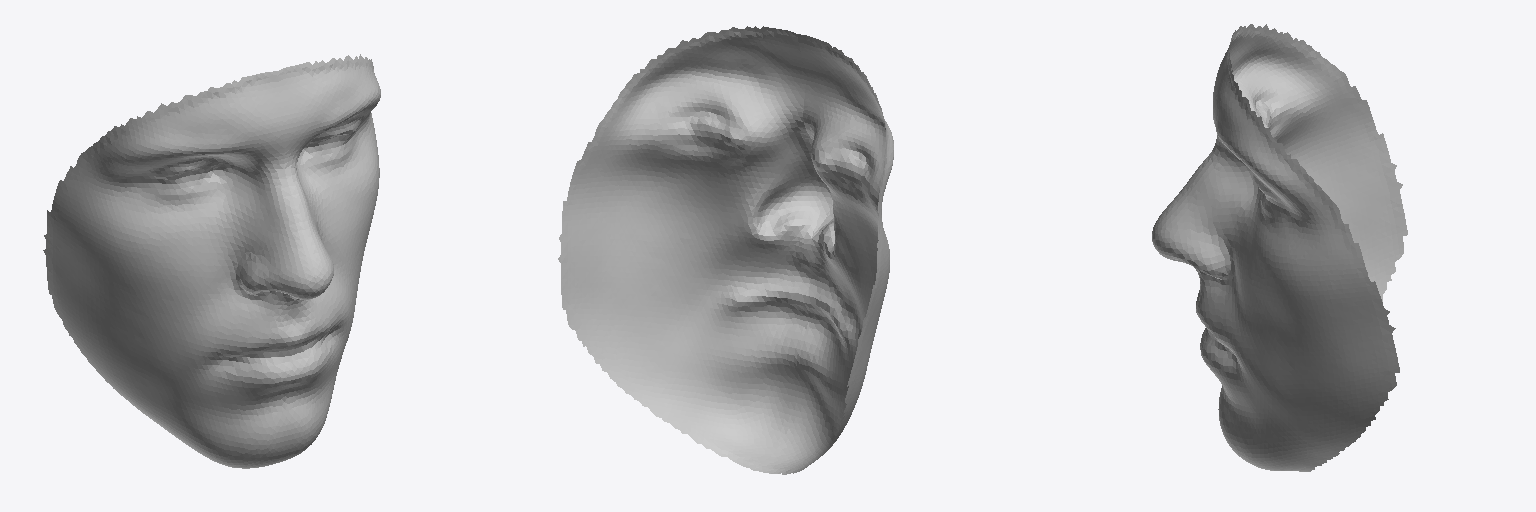
File: SIMPOP_34.obj
3 views of the same model, side by side, from view 1: azimuth 30°, elevation 25°; view 2: azimuth 150°, elevation 25°; view 3: azimuth 270°, elevation 25° (orthographic).
Visible parts, largest first — view 1: SIMPOP_34; view 2: SIMPOP_34; view 3: SIMPOP_34.
Boxes of the visible parts, x1,y1,x2,y2 form: SIMPOP_34: [43, 54, 380, 468]; SIMPOP_34: [558, 26, 893, 474]; SIMPOP_34: [1152, 24, 1407, 471].
Size of the model in its own units: 141 by 177 by 100.